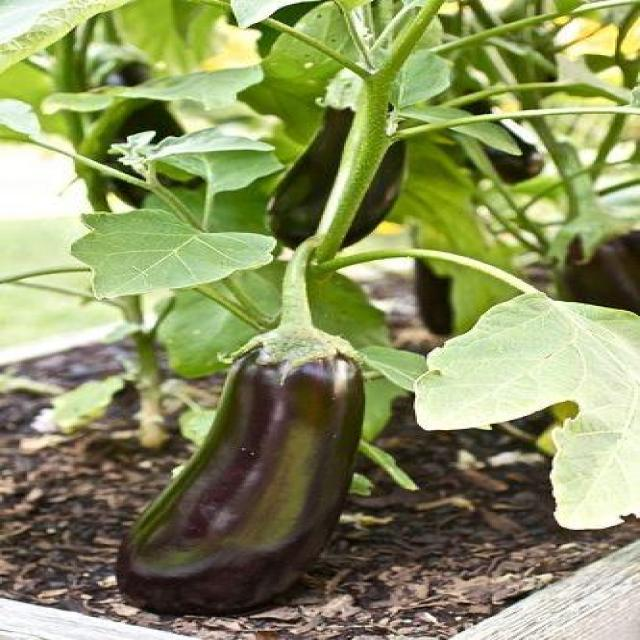eggplant: (111, 233, 365, 618)
